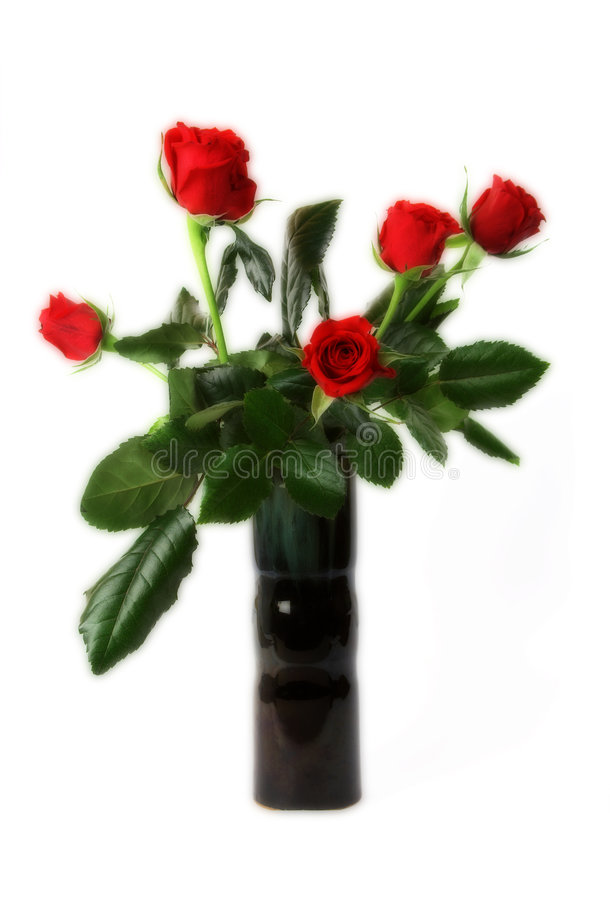RedRose: (148, 146, 259, 256), (288, 323, 405, 402), (34, 299, 113, 411), (469, 159, 558, 258), (379, 212, 484, 280)
